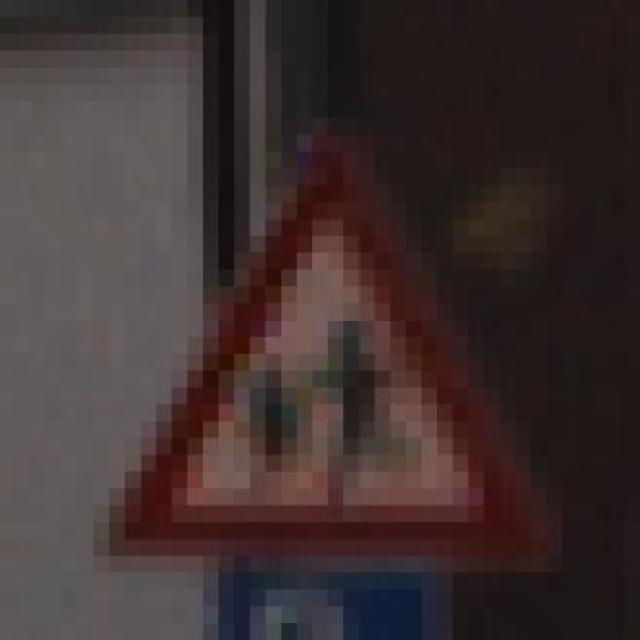Beware of children: (69, 97, 568, 586)
